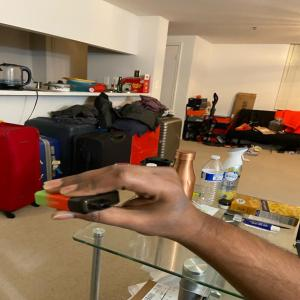Swift-E-Ciggirate: (31, 190, 123, 216)
